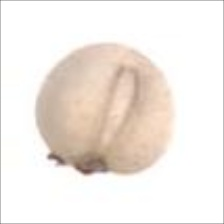L5: (96, 66, 140, 153), (45, 147, 116, 177), (107, 41, 168, 75)
L6: (34, 41, 172, 180)
